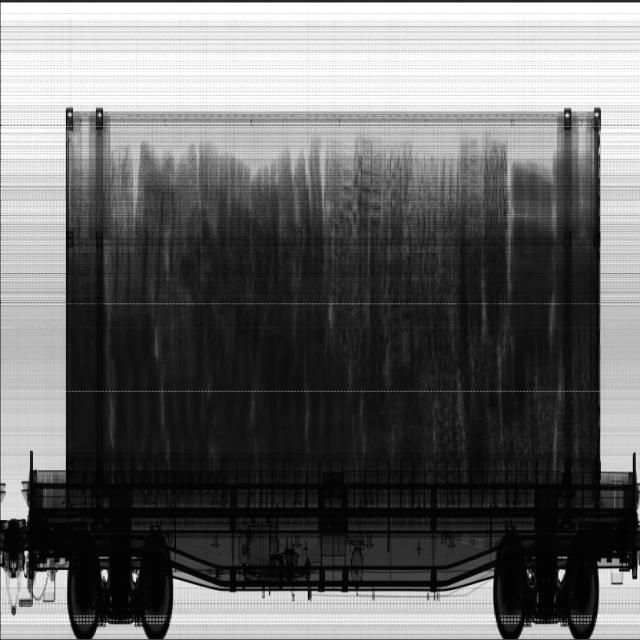clothes: (505, 152, 595, 399)
textile: (69, 131, 350, 467)
